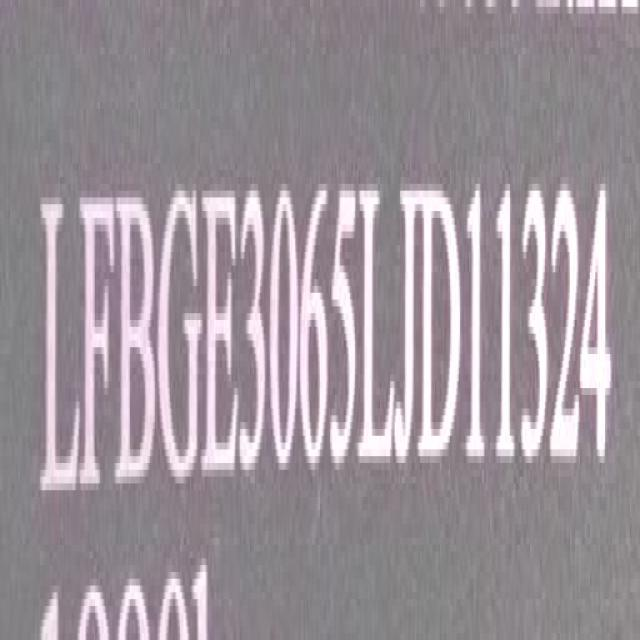0: (268, 189, 300, 484)
1: (466, 176, 490, 462), (494, 184, 516, 467)
2: (548, 172, 582, 462)
3: (236, 186, 268, 482), (521, 177, 548, 464)
4: (580, 184, 614, 457)
5: (329, 176, 359, 462)
6: (300, 182, 331, 474)
B: (115, 184, 155, 499)
D: (419, 176, 464, 476)
E: (202, 182, 239, 486)
F: (78, 172, 116, 486)
G: (156, 176, 203, 504)
J: (393, 186, 419, 466)
L: (39, 174, 80, 497), (356, 172, 396, 474)
